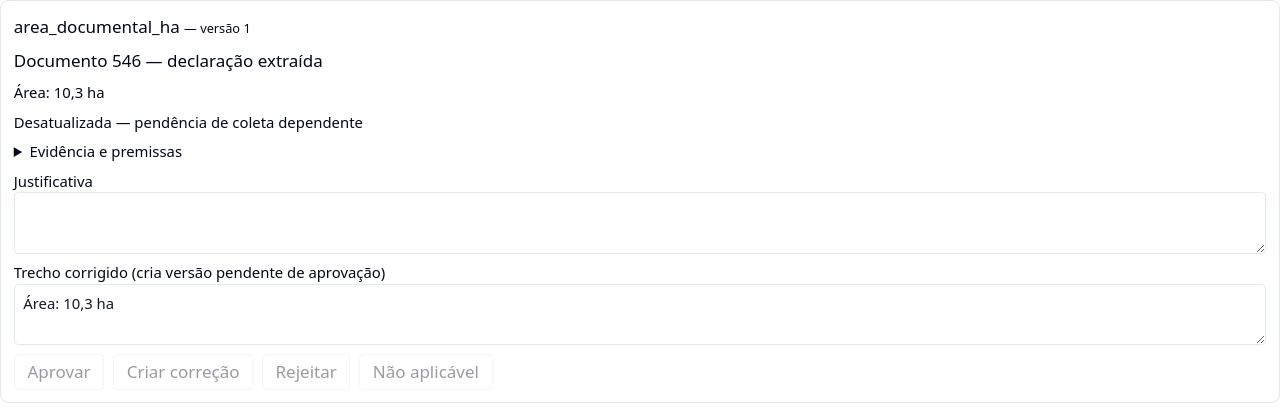
Scenario: ReviewCard — observação › disables every action except correção when the observation is stale, same as for conclusão
Step 1. Type "Justificativa presente" into the text box named "Justificativa da revisão" → (640, 223), box top-left (14, 192), bottom-right (1266, 254)
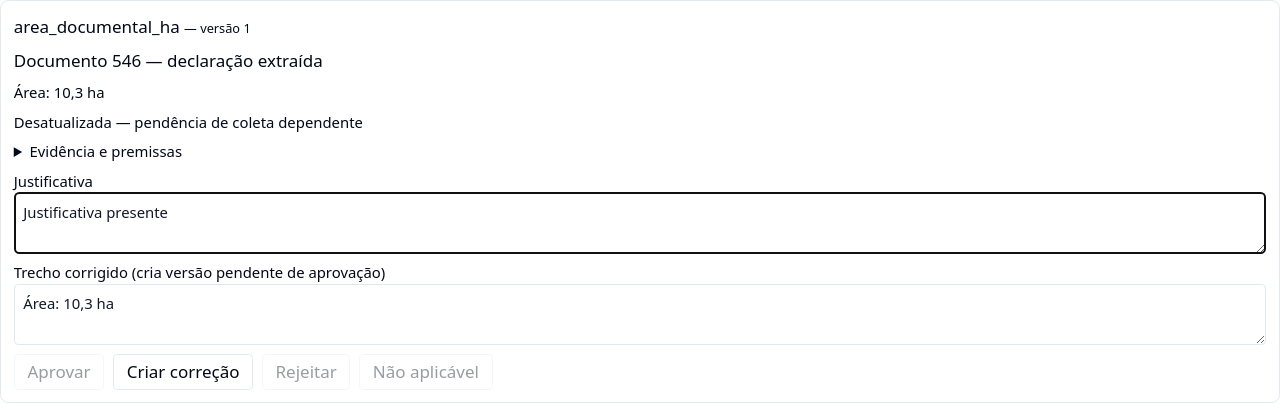
Check: the button "Aprovar" is disabled, box top-left (14, 354), bottom-right (104, 390)
Check: the button "Criar correção" is enabled, box top-left (113, 354), bottom-right (253, 390)
